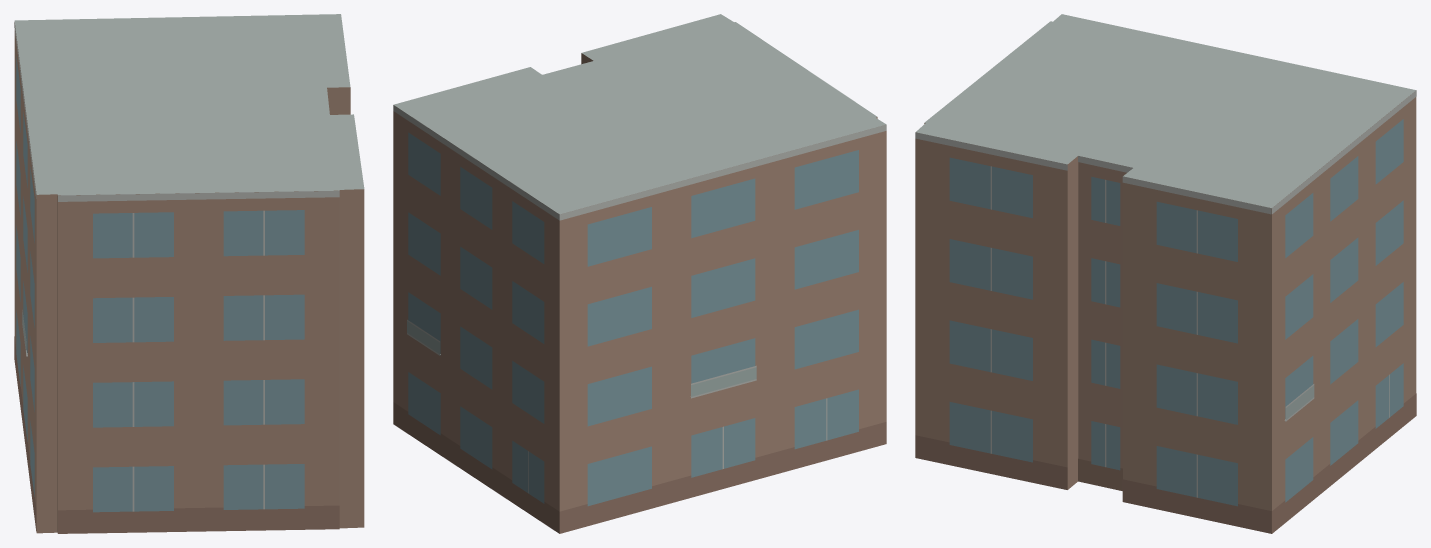
The model's file is survey-upis-32654348.glb.
The picture shows the model from 3 angles, left to right: view 1: azimuth 30°, elevation 25°; view 2: azimuth 150°, elevation 25°; view 3: azimuth 270°, elevation 25°; orthographic projection. The views are drawn at different scales.
Visible parts, largest first — view 1: survey-upis-32654348.tmp; view 2: survey-upis-32654348.tmp; view 3: survey-upis-32654348.tmp.
Boxes of the visible parts, left/top/right/bottom form: survey-upis-32654348.tmp: left=14, top=14, right=364, bottom=533; survey-upis-32654348.tmp: left=393, top=14, right=886, bottom=533; survey-upis-32654348.tmp: left=915, top=14, right=1416, bottom=533.
Bounding box in the file's own units: 16.12 × 12.6 × 17.58.
